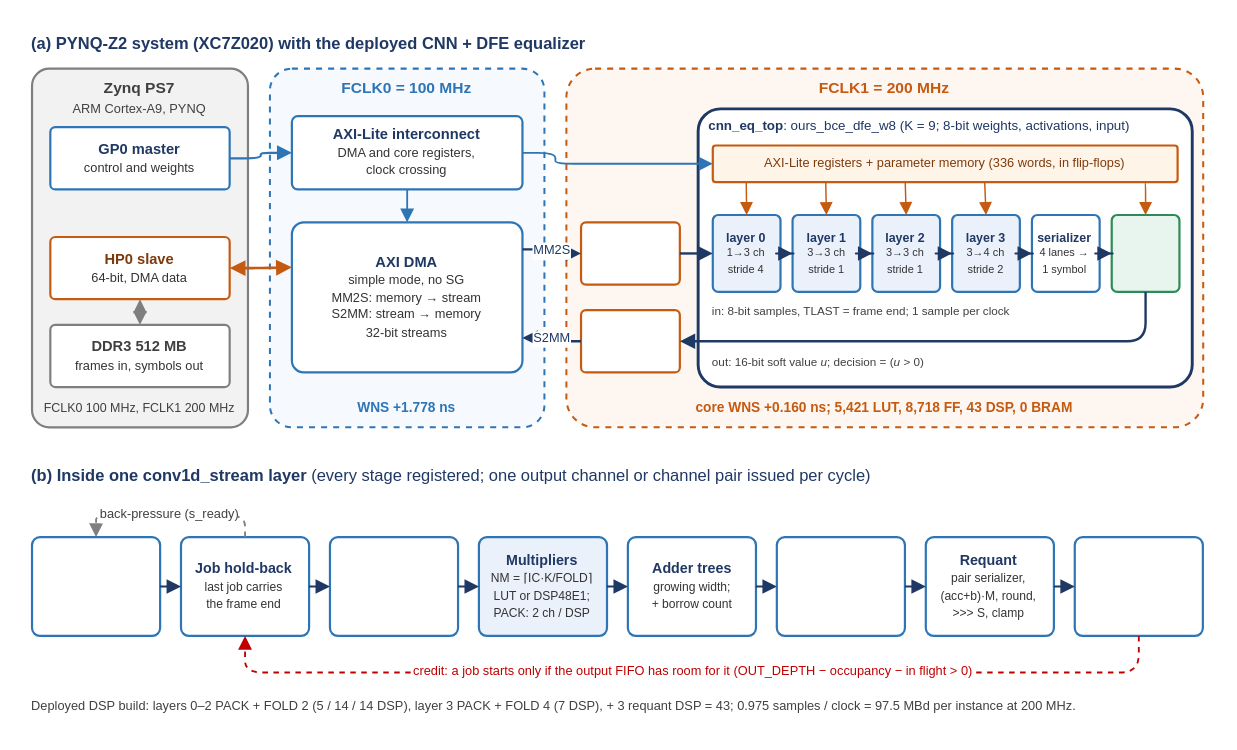
This 1237x750 diagram has some shape labels left out. The centre of each missing label's shape, as x and y in pixels:
"clock + width 16 → 32 bit" goes at pixel 629 340.
"clock + width 32 → 8 bit" goes at pixel 629 252.
"Collector OC channels → output FIFO (16)" goes at pixel 1138 585.
"DFE 2 taps, look-ahead" goes at pixel 1145 252.
"Fold accum. sum FOLD partials" goes at pixel 840 585.
"Operand mux fold phase f : taps f ·NM+ m" goes at pixel 393 585.
"Window K × IC shift reg., zero pad, flush" goes at pixel 95 585.
